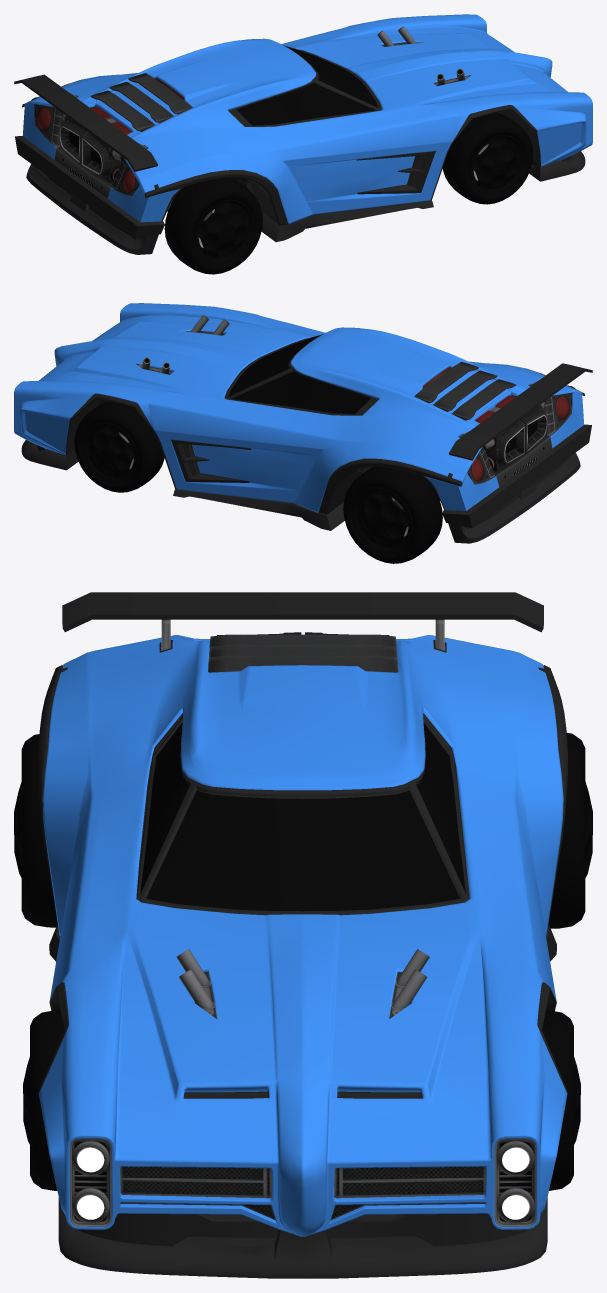
File: dominus.glb
The picture shows the model from 3 angles, top to bottom: view 1: azimuth 30°, elevation 25°; view 2: azimuth 150°, elevation 25°; view 3: azimuth 270°, elevation 25°; orthographic projection. The views are drawn at different scales.
Visible parts, largest first — view 1: Dominus, Cristiano - BR (Dominus), Cristiano - FR (Dominus); view 2: Dominus, Cristiano - BL (Dominus), Cristiano - FL (Dominus); view 3: Dominus, Cristiano - BL (Dominus), Cristiano - BR (Dominus), Cristiano - FR (Dominus), Cristiano - FL (Dominus).
Boxes of the visible parts, left/top/right/bottom form: Dominus: left=14, top=14, right=592, bottom=254; Cristiano - BR (Dominus): left=164, top=177, right=262, bottom=274; Cristiano - FR (Dominus): left=442, top=112, right=533, bottom=204; Dominus: left=14, top=303, right=592, bottom=543; Cristiano - BL (Dominus): left=343, top=466, right=442, bottom=563; Cristiano - FL (Dominus): left=74, top=401, right=164, bottom=492; Dominus: left=38, top=592, right=567, bottom=1278; Cristiano - BL (Dominus): left=548, top=733, right=592, bottom=928; Cristiano - BR (Dominus): left=14, top=734, right=57, bottom=927; Cristiano - FR (Dominus): left=23, top=1010, right=64, bottom=1190; Cristiano - FL (Dominus): left=542, top=1010, right=580, bottom=1190.
Size of the model in its own units: 151 by 42.04 by 79.25.
7 materials, 1 textured.
